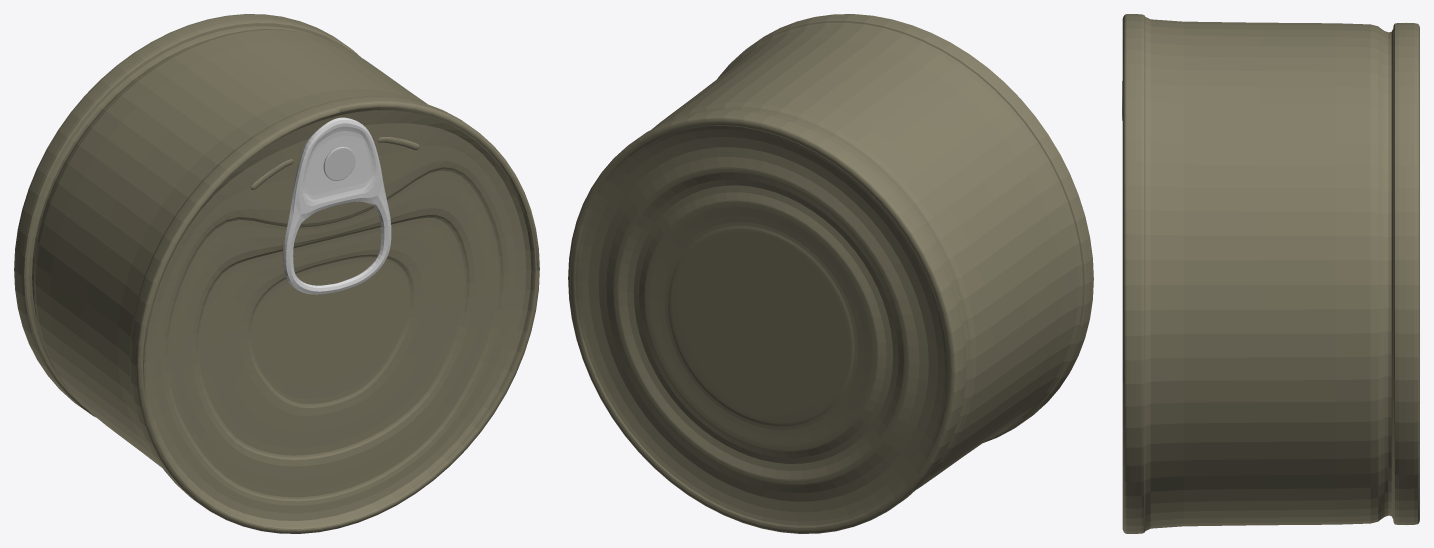
3 renders of one model, left to right at view 1: azimuth 30°, elevation 25°; view 2: azimuth 150°, elevation 25°; view 3: azimuth 270°, elevation 25°, orthographic. The views are drawn at different scales.
Parts seen in each view (by area): view 1: world; view 2: world; view 3: world.
Boxes of the visible parts, x1,y1,x2,y2 form: world: (14, 14, 539, 533); world: (568, 14, 1093, 533); world: (1122, 14, 1419, 533).
Size of the model in its own units: 0.074 by 0.074 by 0.0424.
1 material, 1 textured.
